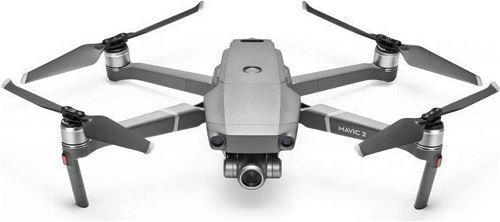drone: (11, 15, 489, 186)
